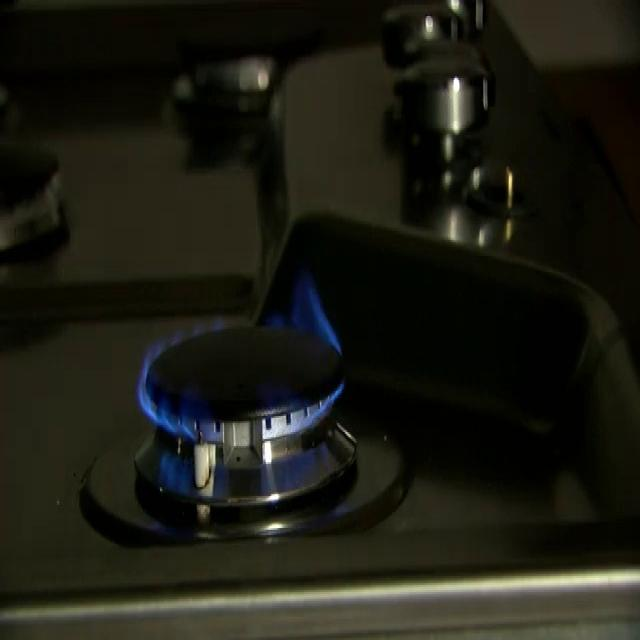fire: (128, 283, 371, 516)
